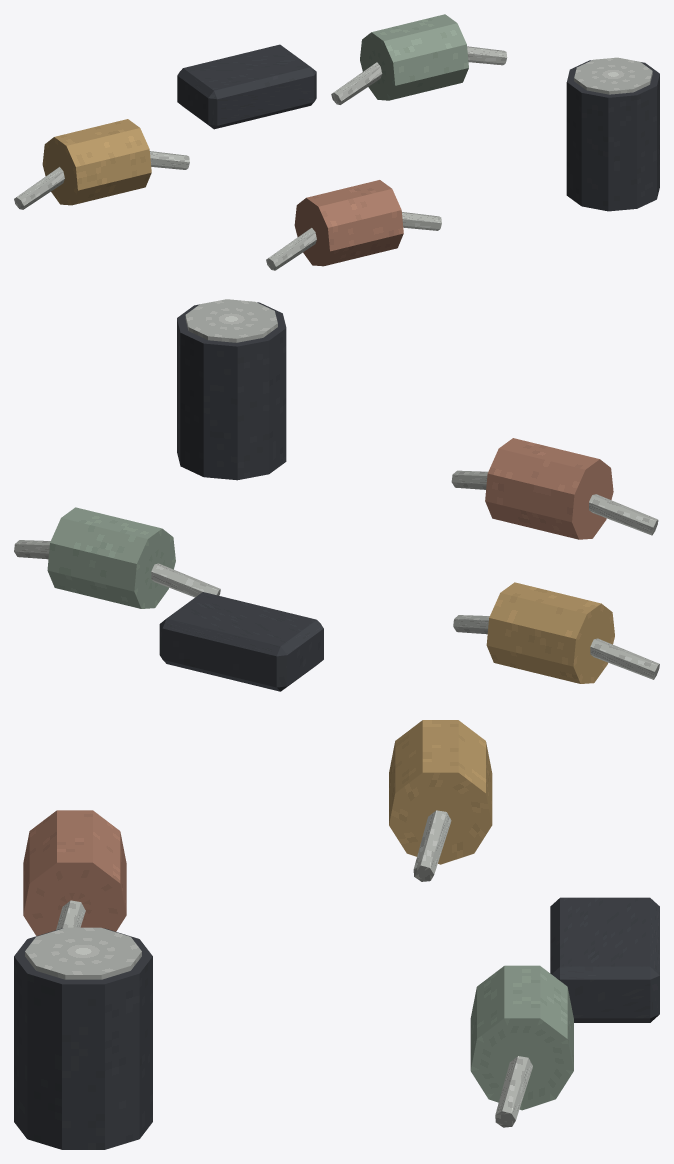
File: e_scrap.glb
The picture shows the model from 3 angles, top to bottom: view 1: azimuth 30°, elevation 25°; view 2: azimuth 150°, elevation 25°; view 3: azimuth 270°, elevation 25°; orthographic projection. The views are drawn at different scales.
Visible parts, largest first — view 1: block_loose axial component (×3), block_loose electrolytic capacitor, block_chip fragment, block_bent lead (×6), block_capacitor cap; view 2: block_loose axial component (×3), block_loose electrolytic capacitor, block_chip fragment, block_bent lead (×6), block_capacitor cap; view 3: block_loose axial component (×3), block_loose electrolytic capacitor, block_chip fragment, block_capacitor cap, block_bent lead (×3).
Part boxes in pixels (x1,y1,x2,y2): block_loose axial component (×3): [42, 14, 468, 266]; block_loose electrolytic capacitor: [566, 60, 659, 211]; block_chip fragment: [177, 44, 316, 129]; block_bent lead (×6): [14, 46, 507, 270]; block_capacitor cap: [574, 57, 652, 94]; block_loose axial component (×3): [47, 438, 614, 683]; block_loose electrolytic capacitor: [177, 302, 286, 480]; block_chip fragment: [159, 592, 323, 691]; block_bent lead (×6): [14, 470, 659, 679]; block_capacitor cap: [185, 299, 277, 342]; block_loose axial component (×3): [23, 720, 573, 1110]; block_loose electrolytic capacitor: [14, 928, 152, 1149]; block_chip fragment: [550, 897, 659, 1022]; block_capacitor cap: [25, 927, 141, 979]; block_bent lead (×3): [56, 810, 532, 1127].
Bounding box in the file's own units: 0.0321 × 0.00693 × 0.0238.
Materials: 1 (1 with a texture image).
